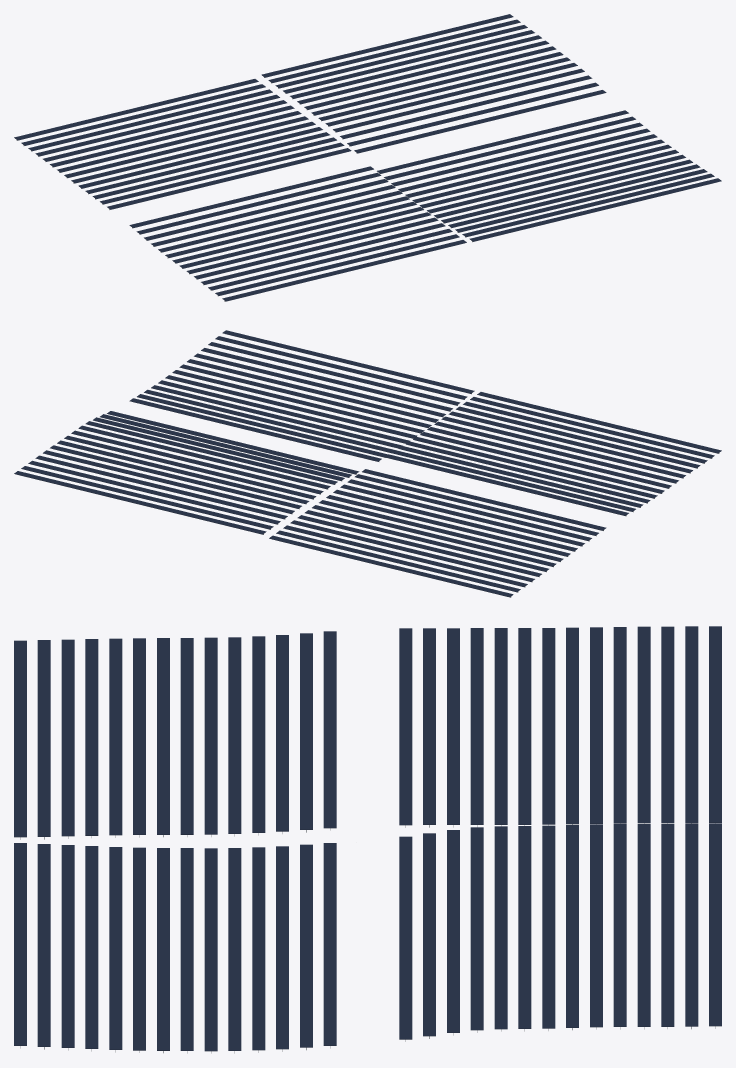
The model's file is sn_solarpark.glb.
3 renders of one model, top to bottom at view 1: azimuth 30°, elevation 25°; view 2: azimuth 150°, elevation 25°; view 3: azimuth 270°, elevation 25°, orthographic. The views are drawn at different scales.
Visible parts, largest first — view 1: sn_solarpark_lod0; view 2: sn_solarpark_lod0; view 3: sn_solarpark_lod0.
Boxes of the visible parts, x1=… form: sn_solarpark_lod0: x1=14, y1=14, x2=721, y2=301; sn_solarpark_lod0: x1=14, y1=330, x2=721, y2=597; sn_solarpark_lod0: x1=14, y1=626, x2=721, y2=1053.
Size of what is drawn, in the model's own units: 325 by 10.63 by 241.
